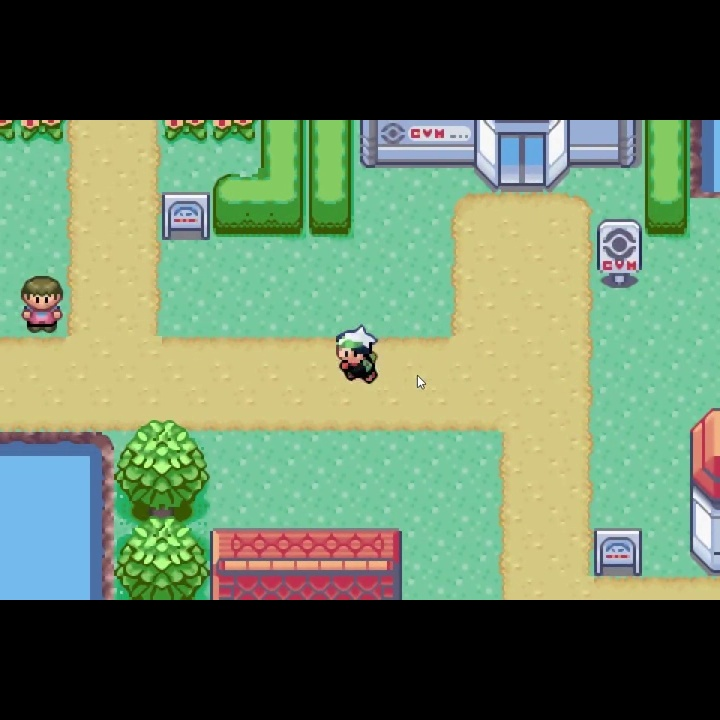gym: (358, 121, 639, 193)
npc: (335, 323, 381, 387), (19, 273, 65, 336)
wall: (114, 418, 211, 515), (115, 513, 210, 599)
